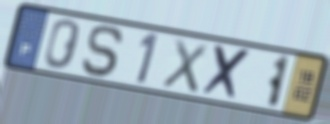0: (42, 18, 83, 72)
1: (268, 53, 293, 112), (136, 31, 160, 87)
S: (79, 23, 127, 80)
X: (199, 42, 254, 103), (159, 36, 211, 96)
